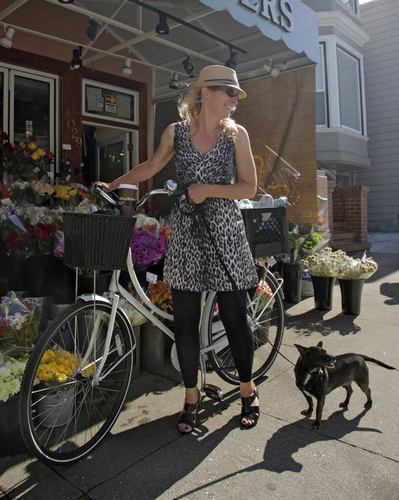bikerider: (27, 61, 305, 450)
